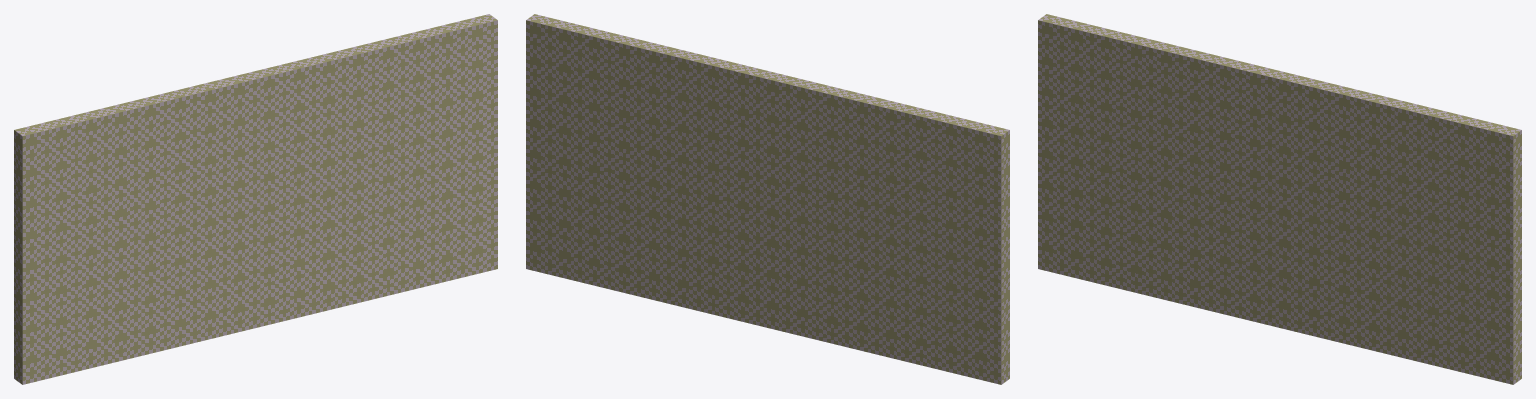
File: wall_textured_8_col.gltf
3 renders of one model, left to right at view 1: azimuth 30°, elevation 25°; view 2: azimuth 150°, elevation 25°; view 3: azimuth 330°, elevation 25°, orthographic.
Visible parts, largest first — view 1: wall_textured_8_col; view 2: wall_textured_8_col; view 3: wall_textured_8_col.
Part boxes in pixels (left/top/right/bottom): wall_textured_8_col: left=14, top=14, right=497, bottom=384; wall_textured_8_col: left=526, top=14, right=1009, bottom=384; wall_textured_8_col: left=1038, top=14, right=1521, bottom=384.
Size of the model in its own units: 8 by 4 by 0.25.
Materials: 1 (1 with a texture image).
